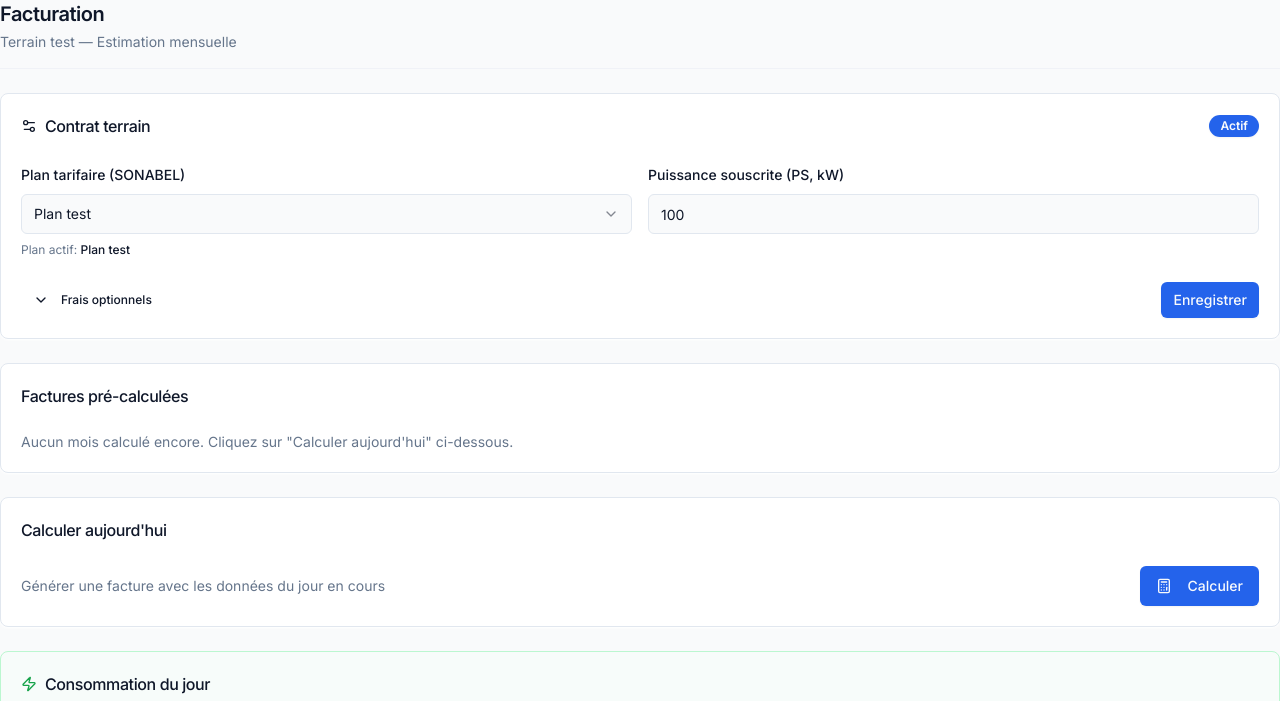
Invoice Component - Polling & Result Handling › should submit facture and poll for results
Step 1. Click the button "Calculer" → coordinates (1199, 586), box [1140,566,1259,606]
(page scrolled)
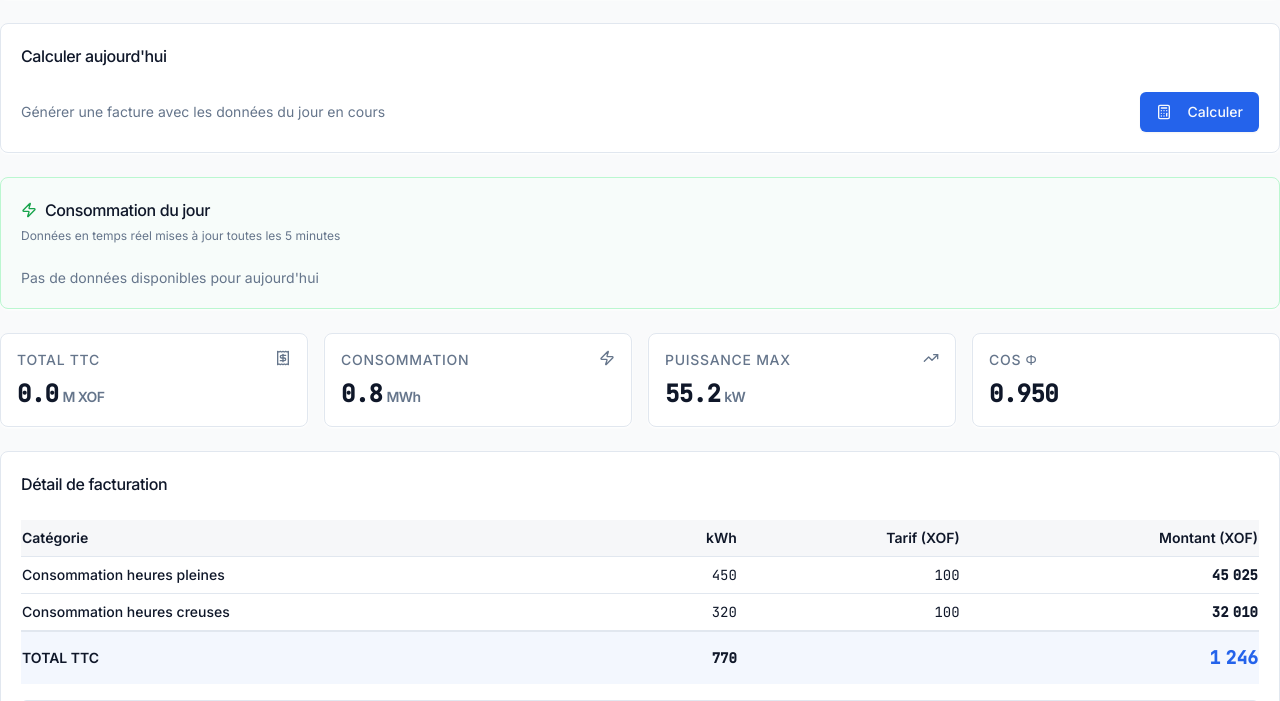
Expected: the heading "Détail de facturation" is shown, [21,474,167,494]
Expected: the text "TOTAL TTC" is shown, [17,350,100,370]
